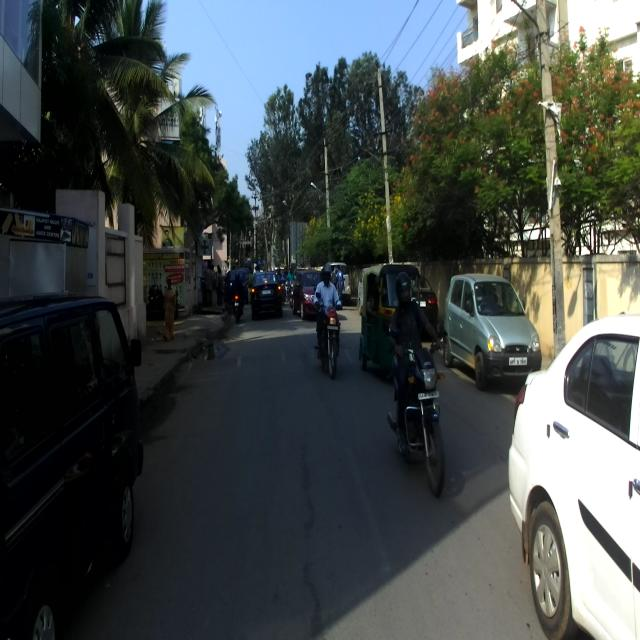car ahead at: (5, 293, 150, 640), (508, 318, 640, 640)
electric pole ahead at: (524, 0, 572, 335)
motorcycle ahead at: (387, 334, 450, 487)
